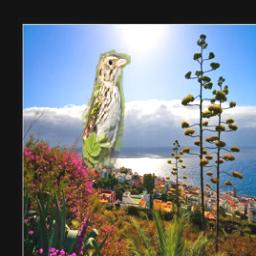Sparrow: (83, 48, 132, 169)
